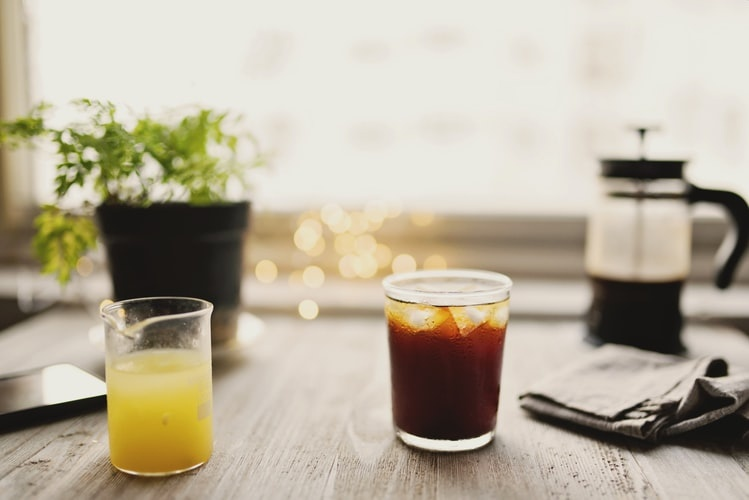whiskey: (387, 270, 510, 447), (104, 295, 227, 472)
